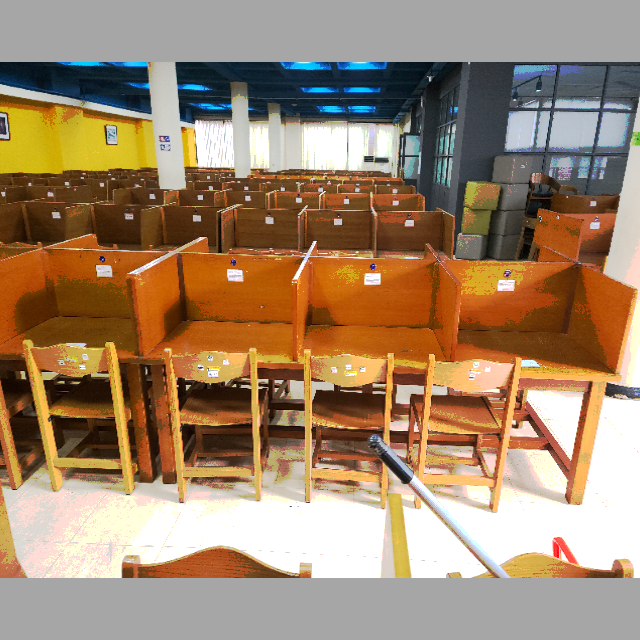empty: (463, 268, 631, 414), (148, 262, 294, 424), (302, 273, 454, 419)
